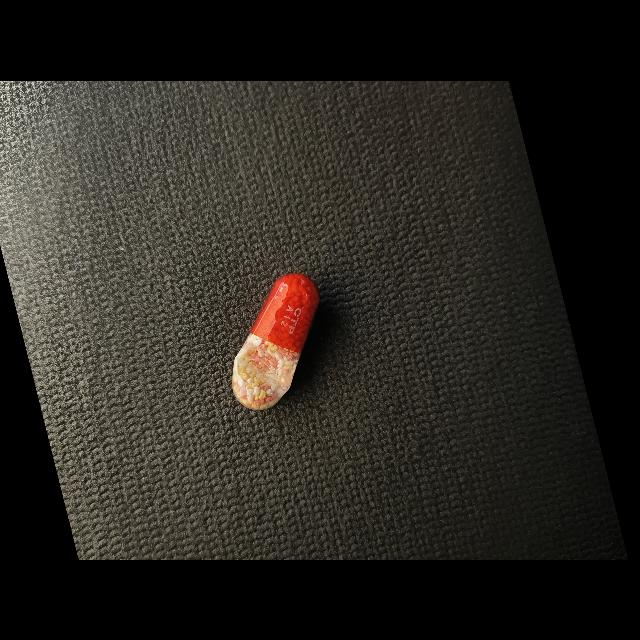Defective Capsule: (232, 273, 319, 409)
